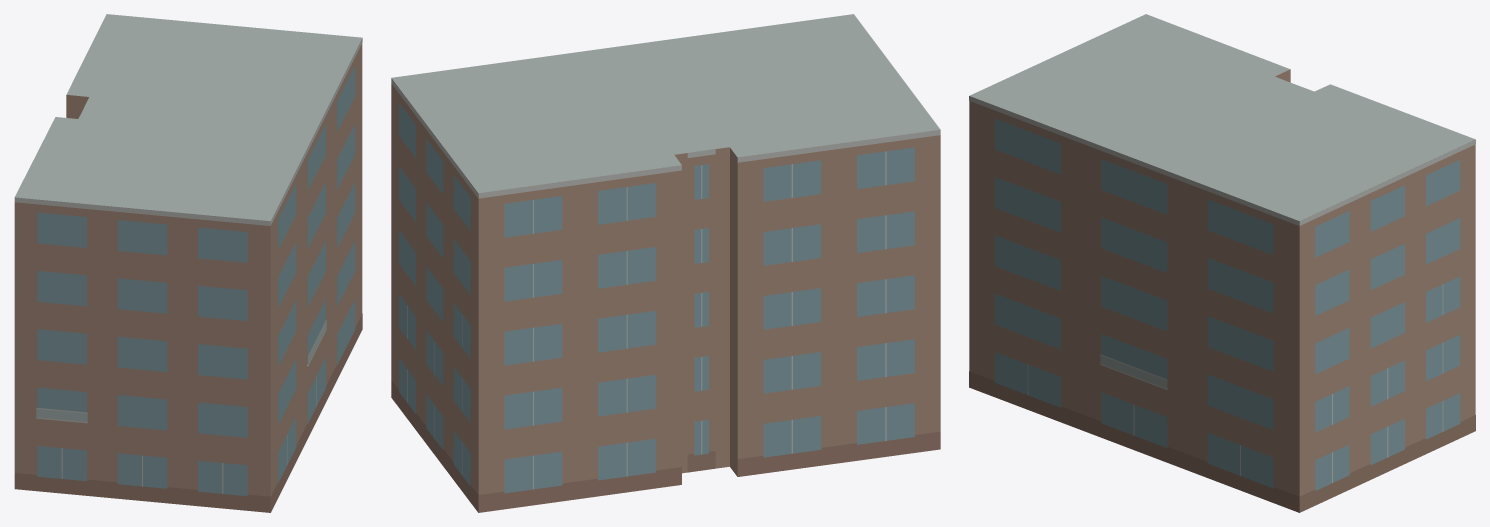
File: survey-upis-32611869.glb
3 views of the same model, side by side, from view 1: azimuth 30°, elevation 25°; view 2: azimuth 150°, elevation 25°; view 3: azimuth 270°, elevation 25° (orthographic). The views are drawn at different scales.
Parts seen in each view (by area): view 1: survey-upis-32611869.tmp; view 2: survey-upis-32611869.tmp; view 3: survey-upis-32611869.tmp.
Boxes of the visible parts, x1,y1,x2,y2 form: survey-upis-32611869.tmp: (14,14,362,512); survey-upis-32611869.tmp: (391,14,940,512); survey-upis-32611869.tmp: (969,14,1475,512).
Bounding box in the file's own units: 22.33 × 14.65 × 23.07.
